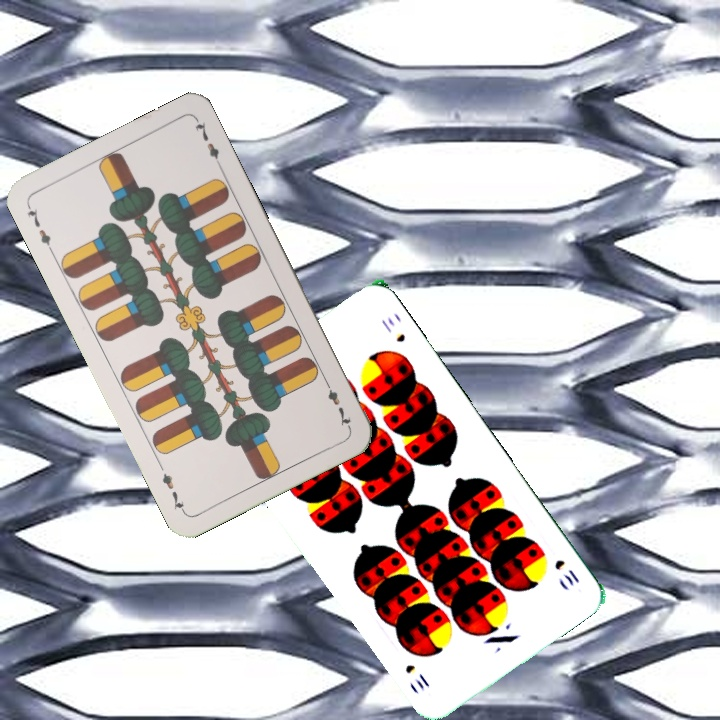E7: (320, 375, 353, 431), (23, 200, 56, 256)
S10: (550, 555, 583, 589)
